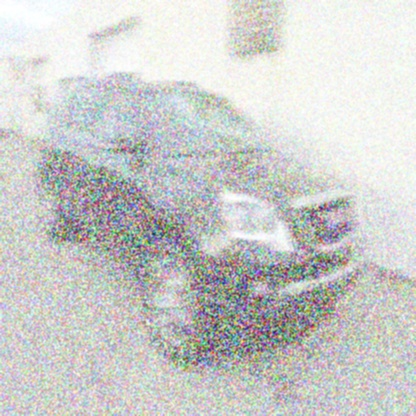Vehicle: (37, 69, 371, 373)
